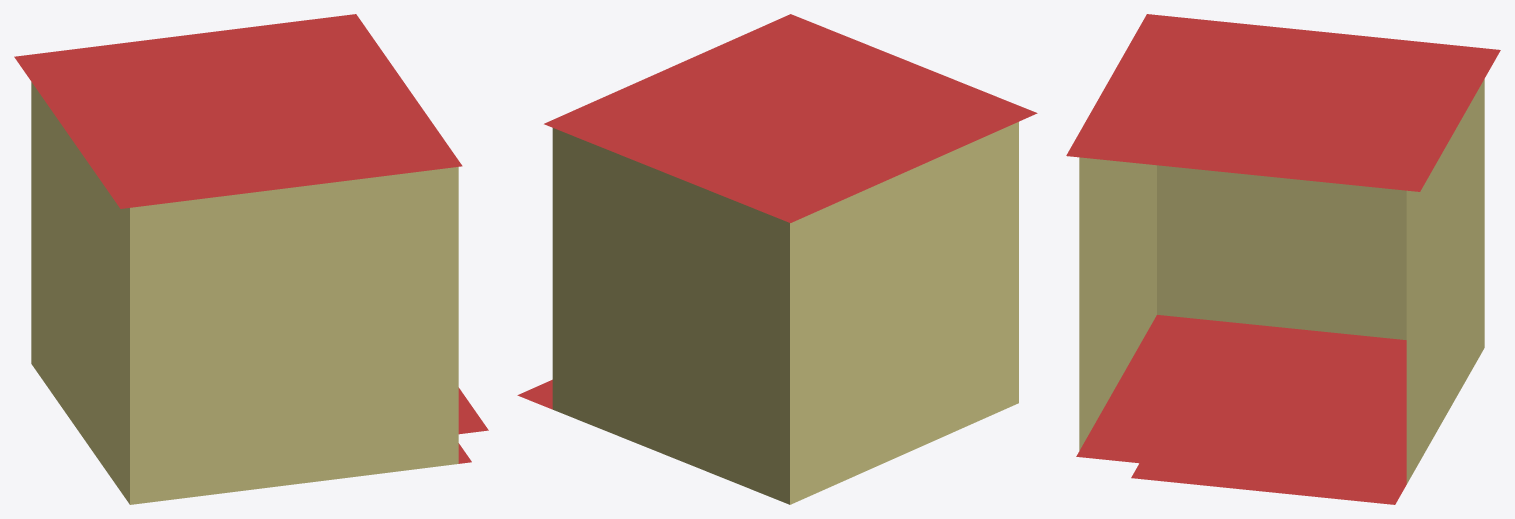
The picture shows the model from 3 angles, left to right: view 1: azimuth 30°, elevation 25°; view 2: azimuth 150°, elevation 25°; view 3: azimuth 270°, elevation 25°; orthographic projection. The views are drawn at different scales.
Size of the model in its own units: 8.54 by 7.96 by 5.94.
